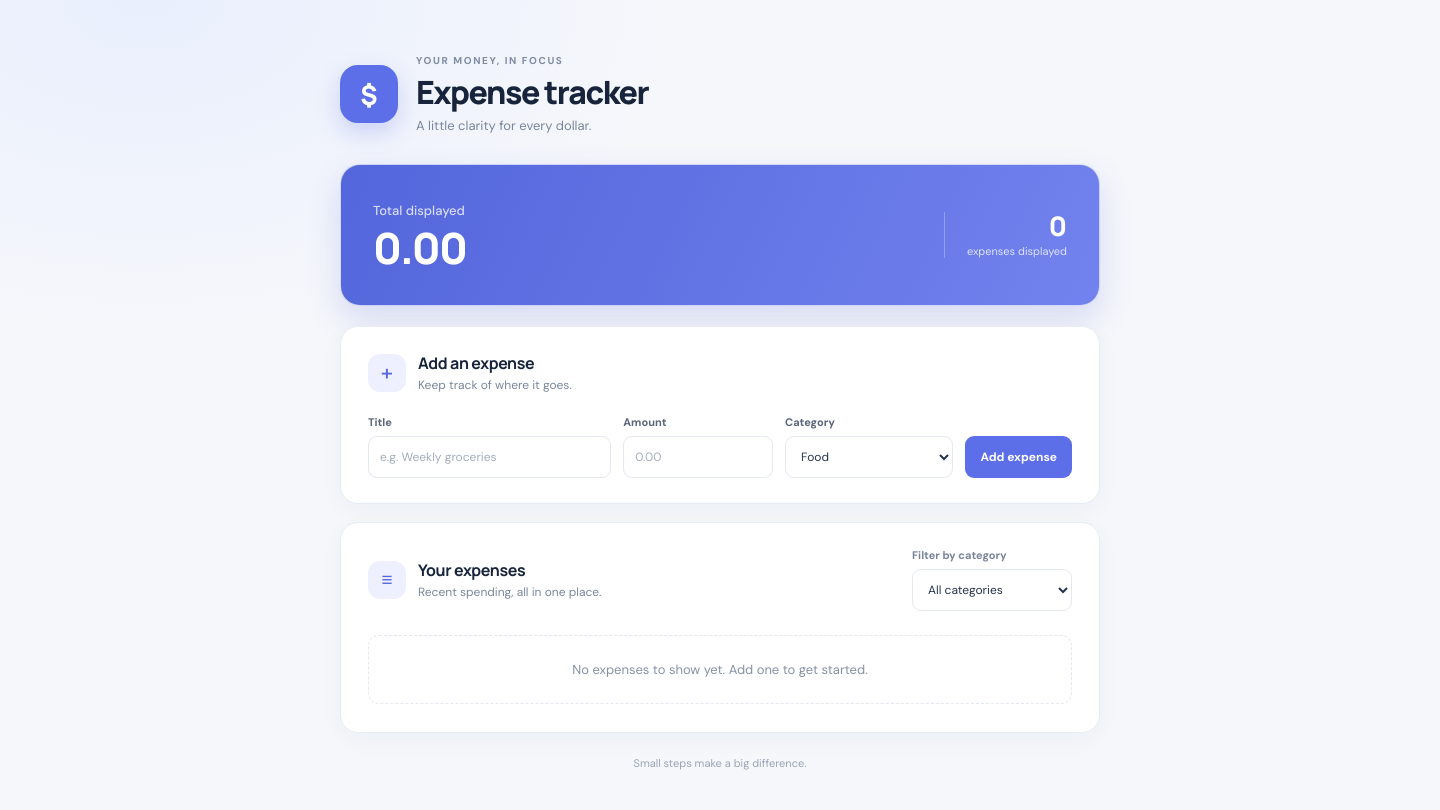
Test case: expense tracker › adds a valid expense and clears the form
Type "Lunch" into the field labelled "Title" at (490, 457), box x1=368 y1=436 x2=611 y2=478
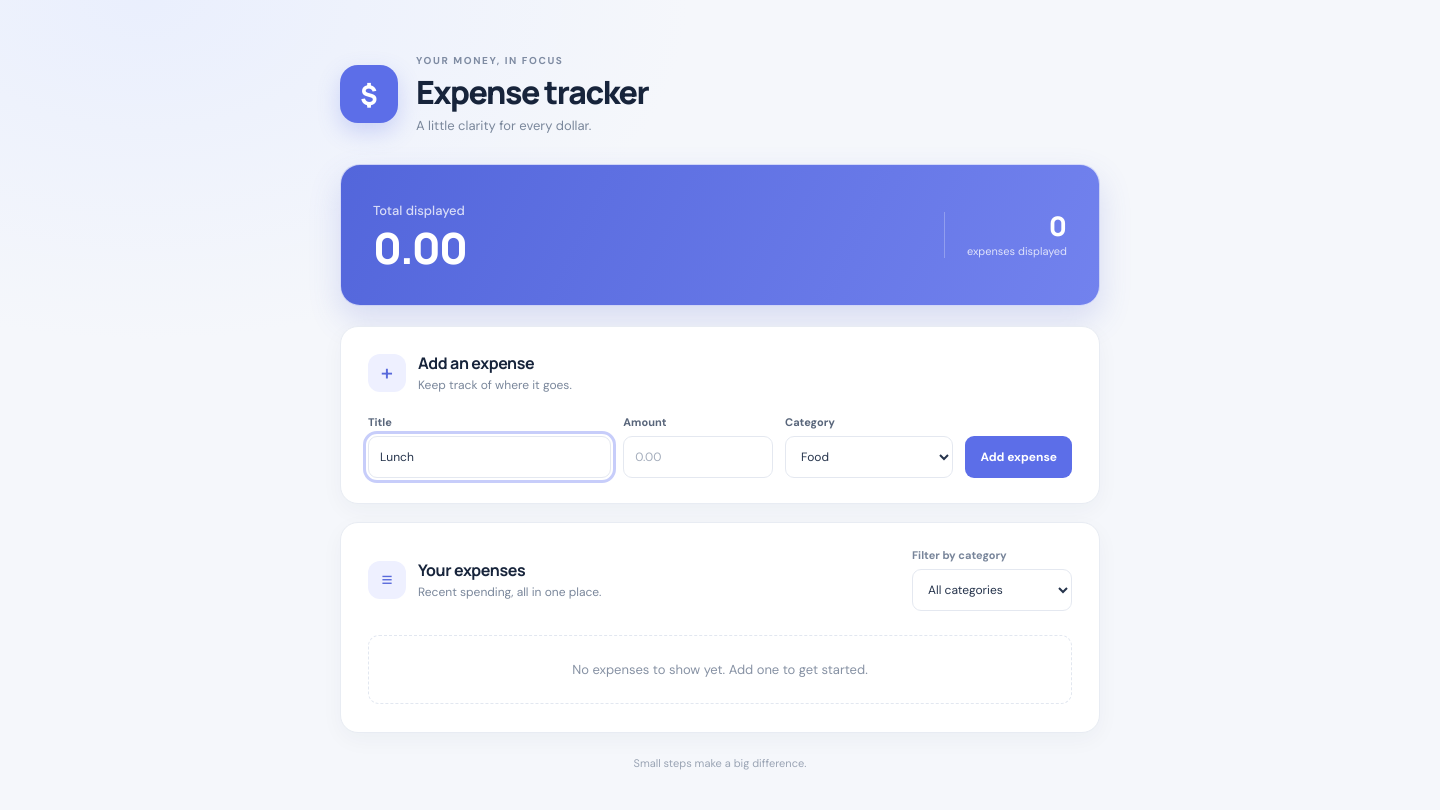
Type "250" into the number field labelled "Amount" at (698, 457), box x1=623 y1=436 x2=773 y2=478
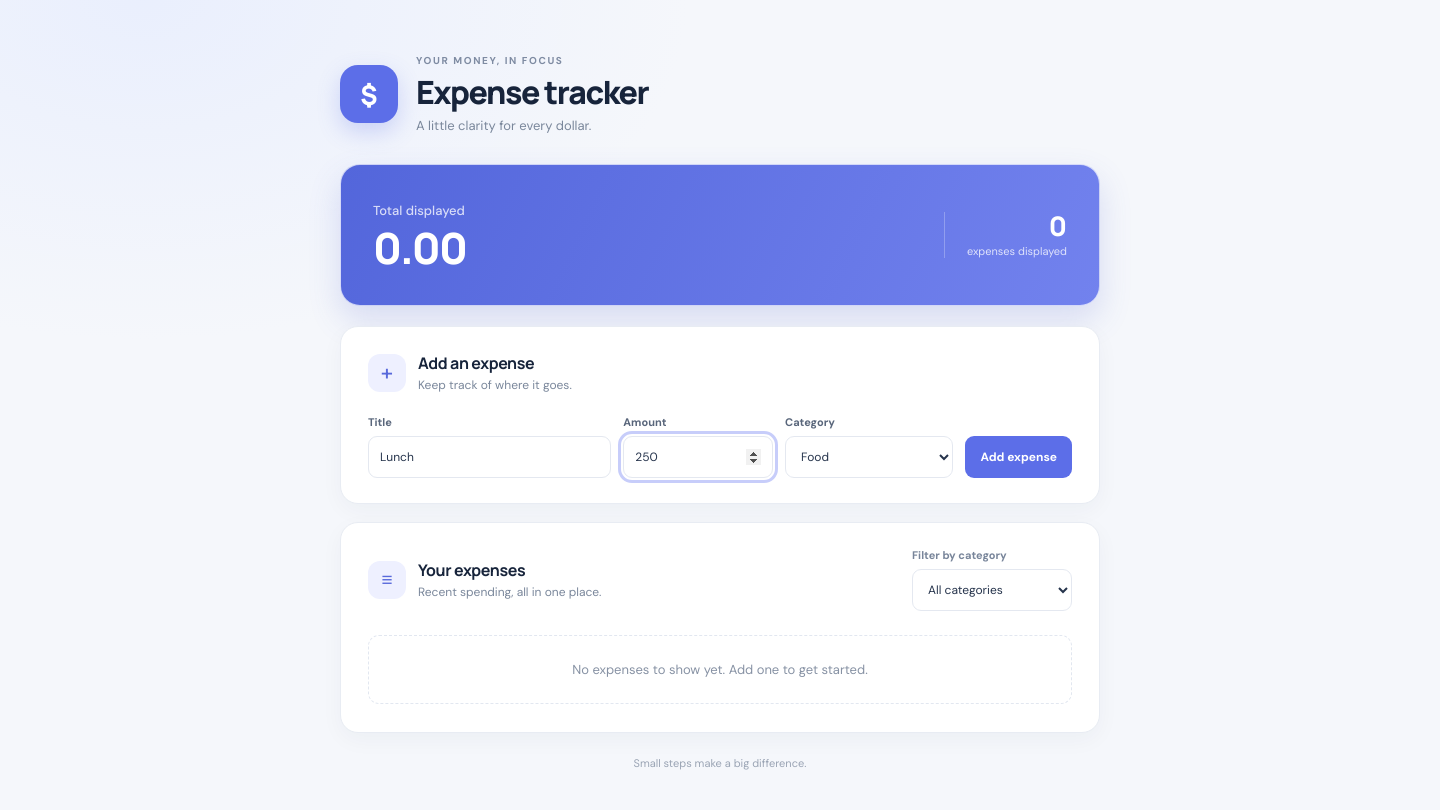
Select "Food" in the dropdown labelled "Category" at (869, 457), box x1=785 y1=436 x2=954 y2=478
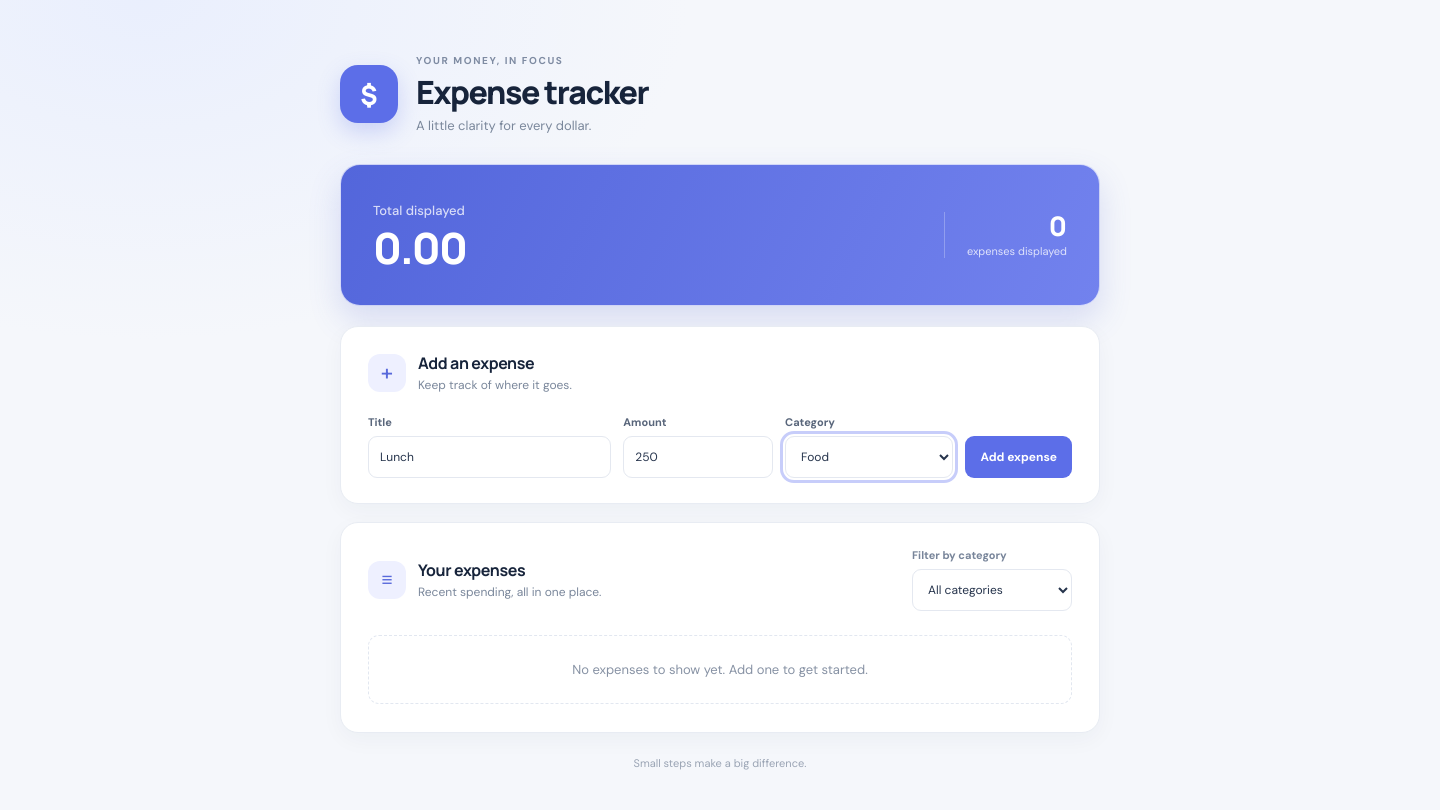
Click the button "Add expense" at (1019, 457), box x1=966 y1=436 x2=1072 y2=478
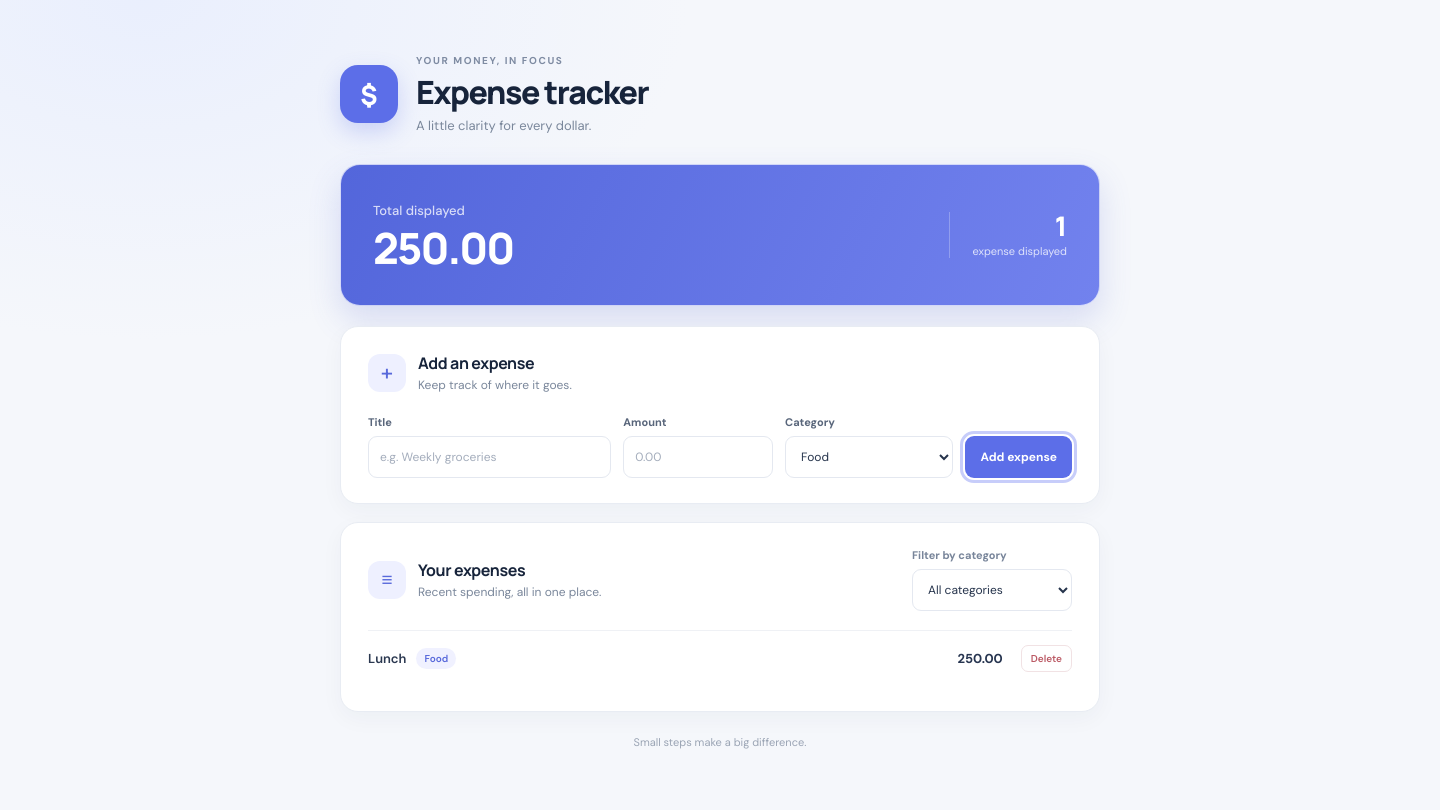
Expected: the text "Lunch" is shown, x1=368 y1=650 x2=406 y2=667
Expected: the text "250.00" in the row of "Lunch" is shown, x1=957 y1=650 x2=1003 y2=667
Expected: the field labelled "Title" is empty, x1=368 y1=436 x2=611 y2=478
